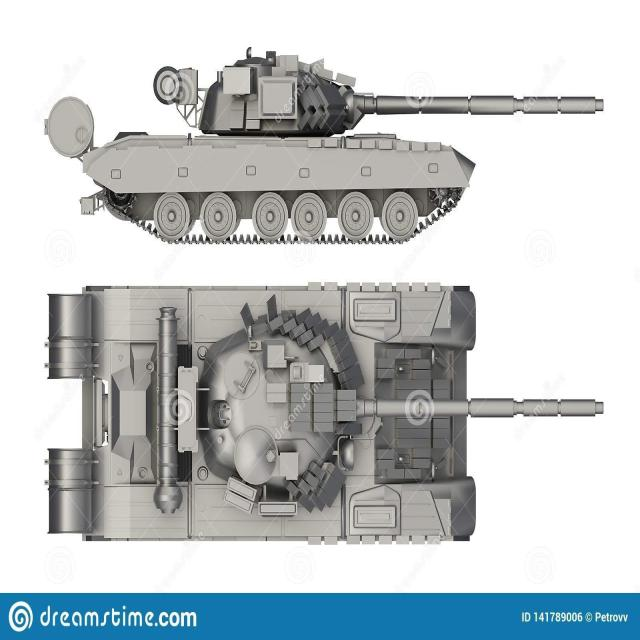Tanks: (45, 283, 618, 545), (43, 45, 617, 246)
